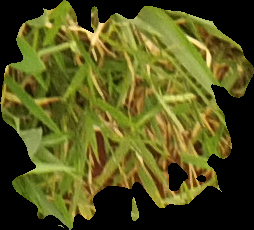grass: (1, 1, 253, 229)
